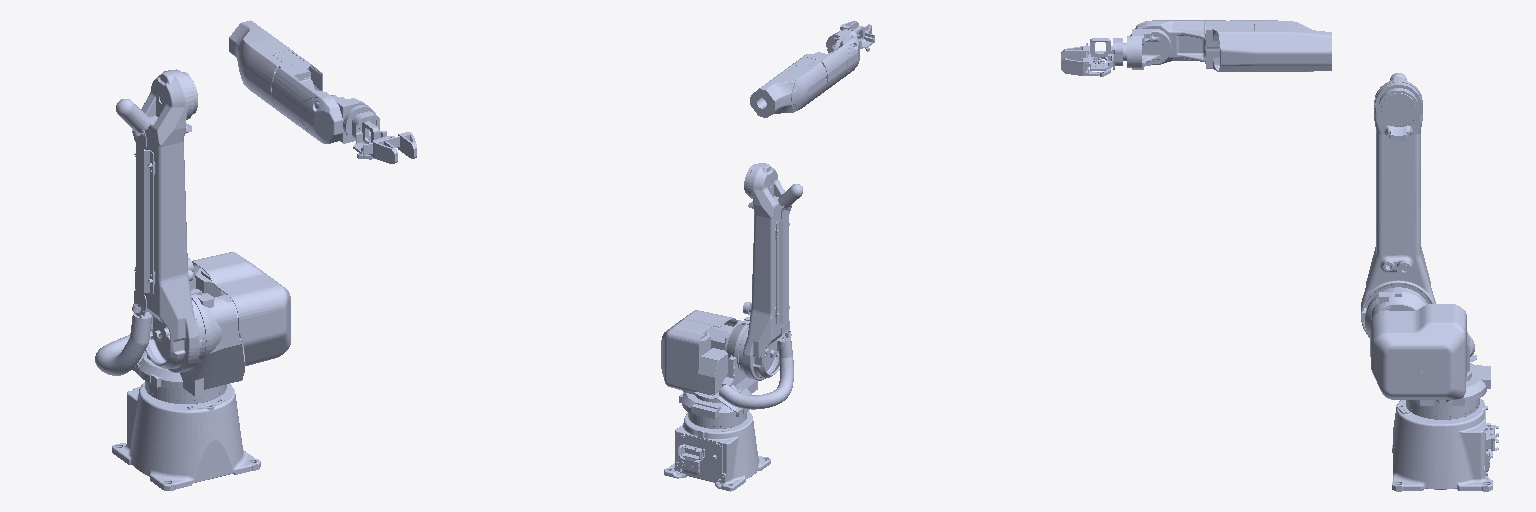
URDF robot description (fanucgripper_description):
<?xml version="1.0" encoding="utf-8"?>
<!-- This URDF was automatically created by SolidWorks to URDF Exporter! Originally created by [author] ([email redacted]) 
     Commit Version: 1.6.0-1-g15f4949  Build Version: 1.6.7594.29634
     For more information, please see http://wiki.ros.org/sw_urdf_exporter -->
<robot
  name="fanucgripper_description">
  <link
    name="base_link">
    <inertial>
      <origin
        xyz="0.00013126 -0.0026776 0.1402"
        rpy="0 0 0" />
      <mass
        value="23.654" />
      <inertia
        ixx="0.33654"
        ixy="-0.0004327"
        ixz="0.00021836"
        iyy="0.32988"
        iyz="-0.0033897"
        izz="0.30696" />
    </inertial>
    <visual>
      <origin
        xyz="0 0 0"
        rpy="0 0 0" />
      <geometry>
        <mesh
          filename="package://fanucgripper_description/meshes/base_link.STL" />
      </geometry>
      <material
        name="">
        <color
          rgba="0.79216 0.81961 0.93333 1" />
      </material>
    </visual>
    <collision>
      <origin
        xyz="0 0 0"
        rpy="0 0 0" />
      <geometry>
        <mesh
          filename="package://fanucgripper_description/meshes/base_link.STL" />
      </geometry>
    </collision>
  </link>
  <link
    name="link_1">
    <inertial>
      <origin
        xyz="0.013186 -0.066637 0.15162"
        rpy="0 0 0" />
      <mass
        value="21.047" />
      <inertia
        ixx="0.35163"
        ixy="-0.0080169"
        ixz="-0.031511"
        iyy="0.41047"
        iyz="0.072171"
        izz="0.43609" />
    </inertial>
    <visual>
      <origin
        xyz="0 0 0"
        rpy="0 0 0" />
      <geometry>
        <mesh
          filename="package://fanucgripper_description/meshes/link_1.STL" />
      </geometry>
      <material
        name="">
        <color
          rgba="0.79216 0.81961 0.93333 1" />
      </material>
    </visual>
    <collision>
      <origin
        xyz="0 0 0"
        rpy="0 0 0" />
      <geometry>
        <mesh
          filename="package://fanucgripper_description/meshes/link_1.STL" />
      </geometry>
    </collision>
  </link>
  <joint
    name="J0"
    type="revolute">
    <origin
      xyz="0 0 0.3076"
      rpy="0 0.0174532925199439 0" />
    <parent
      link="base_link" />
    <child
      link="link_1" />
    <axis
      xyz="-0.0174524064372841 0 0.999847695156261" />
    <limit
      lower="-2.9671"
      upper="2.9671"
      effort="0"
      velocity="3.4034" />
  </joint>
  <link
    name="link_2">
    <inertial>
      <origin
        xyz="-0.10746 4.7849E-05 0.39459"
        rpy="0 0 0" />
      <mass
        value="14.029" />
      <inertia
        ixx="0.93318"
        ixy="-7.4341E-05"
        ixz="-0.0041433"
        iyy="0.92334"
        iyz="7.807E-05"
        izz="0.053319" />
    </inertial>
    <visual>
      <origin
        xyz="0 0 0"
        rpy="0 0 0" />
      <geometry>
        <mesh
          filename="package://fanucgripper_description/meshes/link_2.STL" />
      </geometry>
      <material
        name="">
        <color
          rgba="0.79216 0.81961 0.93333 1" />
      </material>
    </visual>
    <collision>
      <origin
        xyz="0 0 0"
        rpy="0 0 0" />
      <geometry>
        <mesh
          filename="package://fanucgripper_description/meshes/link_2.STL" />
      </geometry>
    </collision>
  </link>
  <joint
    name="J1"
    type="revolute">
    <origin
      xyz="-0.0657847115946149 -0.149999889097418 0.216284916235913"
      rpy="0 -0.0174532925199462 0" />
    <parent
      link="link_1" />
    <child
      link="link_2" />
    <axis
      xyz="1 0 0" />
    <limit
      lower="-1.7453"
      upper="2.7925"
      effort="0"
      velocity="3.0543" />
  </joint>
  <link
    name="link_3">
    <inertial>
      <origin
        xyz="0.043754 -0.10039 0.1067"
        rpy="0 0 0" />
      <mass
        value="13.287" />
      <inertia
        ixx="0.25299"
        ixy="-0.01565"
        ixz="-0.0090526"
        iyy="0.30219"
        iyz="0.064974"
        izz="0.23865" />
    </inertial>
    <visual>
      <origin
        xyz="0 0 0"
        rpy="0 0 0" />
      <geometry>
        <mesh
          filename="package://fanucgripper_description/meshes/link_3.STL" />
      </geometry>
      <material
        name="">
        <color
          rgba="0.79216 0.81961 0.93333 1" />
      </material>
    </visual>
    <collision>
      <origin
        xyz="0 0 0"
        rpy="0 0 0" />
      <geometry>
        <mesh
          filename="package://fanucgripper_description/meshes/link_3.STL" />
      </geometry>
    </collision>
  </link>
  <joint
    name="J2"
    type="revolute">
    <origin
      xyz="0 0 0.789999999999897"
      rpy="0 0 0" />
    <parent
      link="link_2" />
    <child
      link="link_3" />
    <axis
      xyz="1 0 0" />
    <limit
      lower="-3.2289"
      upper="4.7668"
      effort="0"
      velocity="3.1416" />
  </joint>
  <link
    name="link_4">
    <inertial>
      <origin
        xyz="-0.05655 -0.29927 -3.6145E-05"
        rpy="0 0 0" />
      <mass
        value="7.7538" />
      <inertia
        ixx="0.2559"
        ixy="-0.028523"
        ixz="-1.2993E-05"
        iyy="0.024919"
        iyz="-5.9523E-05"
        izz="0.25507" />
    </inertial>
    <visual>
      <origin
        xyz="0 0 0"
        rpy="0 0 0" />
      <geometry>
        <mesh
          filename="package://fanucgripper_description/meshes/link_4.STL" />
      </geometry>
      <material
        name="">
        <color
          rgba="0.79216 0.81961 0.93333 1" />
      </material>
    </visual>
    <collision>
      <origin
        xyz="0 0 0"
        rpy="0 0 0" />
      <geometry>
        <mesh
          filename="package://fanucgripper_description/meshes/link_4.STL" />
      </geometry>
    </collision>
  </link>
  <joint
    name="J3"
    type="revolute">
    <origin
      xyz="0.062 -0.223291899477582 0.25"
      rpy="0 0 0" />
    <parent
      link="link_3" />
    <child
      link="link_4" />
    <axis
      xyz="0 -1 0" />
    <limit
      lower="-3.4907"
      upper="3.4907"
      effort="0"
      velocity="6.2832" />
  </joint>
  <link
    name="link_5">
    <inertial>
      <origin
        xyz="0.034529 -0.030527 8.2322E-08"
        rpy="0 0 0" />
      <mass
        value="0.78107" />
      <inertia
        ixx="0.0020734"
        ixy="0.00048263"
        ixz="-6.448E-10"
        iyy="0.0017182"
        iyz="7.078E-10"
        izz="0.0018545" />
    </inertial>
    <visual>
      <origin
        xyz="0 0 0"
        rpy="0 0 0" />
      <geometry>
        <mesh
          filename="package://fanucgripper_description/meshes/link_5.STL" />
      </geometry>
      <material
        name="">
        <color
          rgba="0.79216 0.81961 0.93333 1" />
      </material>
    </visual>
    <collision>
      <origin
        xyz="0 0 0"
        rpy="0 0 0" />
      <geometry>
        <mesh
          filename="package://fanucgripper_description/meshes/link_5.STL" />
      </geometry>
    </collision>
  </link>
  <joint
    name="J4"
    type="revolute">
    <origin
      xyz="-0.0560000000001478 -0.611708100522418 0"
      rpy="0 0 0" />
    <parent
      link="link_4" />
    <child
      link="link_5" />
    <axis
      xyz="1 0 0" />
    <limit
      lower="-2.4435"
      upper="2.4435"
      effort="0"
      velocity="6.2832" />
  </joint>
  <link
    name="end_effector">
    <inertial>
      <origin
        xyz="-2.1336E-06 -0.036896 -1.0843E-05"
        rpy="0 0 0" />
      <mass
        value="0.050357" />
      <inertia
        ixx="3.5325E-05"
        ixy="-2.7727E-09"
        ixz="2.9529E-09"
        iyy="3.8367E-05"
        iyz="-1.4091E-08"
        izz="3.5339E-05" />
    </inertial>
    <visual>
      <origin
        xyz="0 0 0"
        rpy="0 0 0" />
      <geometry>
        <mesh
          filename="package://fanucgripper_description/meshes/end_effector.STL" />
      </geometry>
      <material
        name="">
        <color
          rgba="0.79216 0.81961 0.93333 1" />
      </material>
    </visual>
    <collision>
      <origin
        xyz="0 0 0"
        rpy="0 0 0" />
      <geometry>
        <mesh
          filename="package://fanucgripper_description/meshes/end_effector.STL" />
      </geometry>
    </collision>
  </link>
  <joint
    name="end_effector_joint"
    type="revolute">
    <origin
      xyz="0.0560000000001477 -0.0354999999999954 0"
      rpy="0 0 0" />
    <parent
      link="link_5" />
    <child
      link="end_effector" />
    <axis
      xyz="0 -1 0" />
    <limit
      lower="-4.7124"
      upper="4.7124"
      effort="0"
      velocity="9.5993" />
  </joint>
  <link
    name="grip1">
    <inertial>
      <origin
        xyz="0.021365 1.0487 -0.82049"
        rpy="0 0 0" />
      <mass
        value="80.653" />
      <inertia
        ixx="28.366"
        ixy="-0.31844"
        ixz="1.067"
        iyy="25.025"
        iyz="7.6238"
        izz="5.2363" />
    </inertial>
    <visual>
      <origin
        xyz="0 0 0"
        rpy="0 0 0" />
      <geometry>
        <mesh
          filename="package://fanucgripper_description/meshes/grip1.STL" />
      </geometry>
      <material
        name="">
        <color
          rgba="0.79216 0.81961 0.93333 1" />
      </material>
    </visual>
    <collision>
      <origin
        xyz="0 0 0"
        rpy="0 0 0" />
      <geometry>
        <mesh
          filename="package://fanucgripper_description/meshes/grip1.STL" />
      </geometry>
    </collision>
  </link>
  <joint
    name="grip_J0"
    type="prismatic">
    <origin
      xyz="-0.055322 -0.1895 -0.021884"
      rpy="0 0 0" />
    <parent
      link="end_effector" />
    <child
      link="grip1" />
    <axis
      xyz="-1 0 0" />
    <limit
      lower="0"
      upper="0.055"
      effort="0"
      velocity="0.2" />
  </joint>
  <link
    name="grip2">
    <inertial>
      <origin
        xyz="-0.089007 1.0487 -0.84275"
        rpy="0 0 0" />
      <mass
        value="80.653" />
      <inertia
        ixx="28.366"
        ixy="-0.31844"
        ixz="1.067"
        iyy="25.025"
        iyz="7.6238"
        izz="5.2363" />
    </inertial>
    <visual>
      <origin
        xyz="0 0 0"
        rpy="0 0 0" />
      <geometry>
        <mesh
          filename="package://fanucgripper_description/meshes/grip2.STL" />
      </geometry>
      <material
        name="">
        <color
          rgba="0.79216 0.81961 0.93333 1" />
      </material>
    </visual>
    <collision>
      <origin
        xyz="0 0 0"
        rpy="0 0 0" />
      <geometry>
        <mesh
          filename="package://fanucgripper_description/meshes/grip2.STL" />
      </geometry>
    </collision>
  </link>
  <joint
    name="grip_J1"
    type="prismatic">
    <origin
      xyz="0.05505 -0.1895 0.00037307"
      rpy="0 0 0" />
    <parent
      link="end_effector" />
    <child
      link="grip2" />
    <axis
      xyz="-1 0 0" />
    <limit
      lower="0"
      upper="0.055"
      effort="0"
      velocity="0.2" />
  </joint>
</robot>

--- Render facts (derived) ---
Views: 3 orthographic renders of the robot side by side, from view 1: azimuth 30°, elevation 25°; view 2: azimuth 150°, elevation 25°; view 3: azimuth 270°, elevation 25°.
Model fanucgripper_description with 9 links and 8 joints (6 revolute, 2 prismatic), rooted at base_link, posed every joint at zero.
Links seen in each view (by area): view 1: link_2, link_1, base_link, link_4, end_effector, link_5; view 2: link_1, link_2, base_link, link_4; view 3: link_1, link_2, base_link, link_4, link_5, end_effector.
Link boxes in pixels (left/top/right/bottom): link_2: left=116, top=69, right=201, bottom=372; link_1: left=95, top=252, right=290, bottom=395; base_link: left=112, top=381, right=260, bottom=490; link_4: left=229, top=20, right=342, bottom=143; end_effector: left=352, top=111, right=399, bottom=159; link_5: left=331, top=95, right=375, bottom=143; link_1: left=661, top=310, right=793, bottom=418; link_2: left=742, top=163, right=802, bottom=380; base_link: left=664, top=411, right=770, bottom=491; link_4: left=750, top=37, right=859, bottom=117; link_1: left=1365, top=287, right=1490, bottom=406; link_2: left=1361, top=73, right=1435, bottom=336; base_link: left=1392, top=399, right=1498, bottom=491; link_4: left=1130, top=20, right=1331, bottom=71; link_5: left=1127, top=29, right=1171, bottom=69; end_effector: left=1086, top=38, right=1126, bottom=76.
Size in the robot's own frame: 0.59 by 1.49 by 1.64 metres.
8 mesh visuals loaded from 9 distinct referenced files (8 binary STL); not drawn: 1 (reference not matched to a file when rendering).